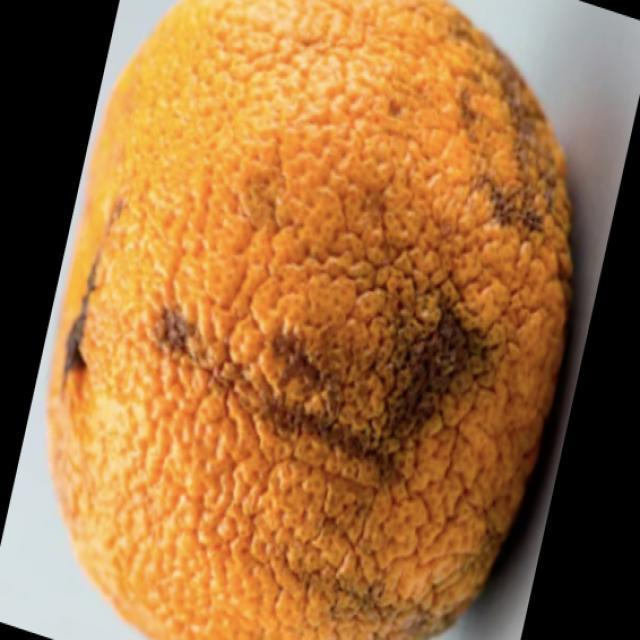sedikit-busuk: (50, 0, 570, 639)
